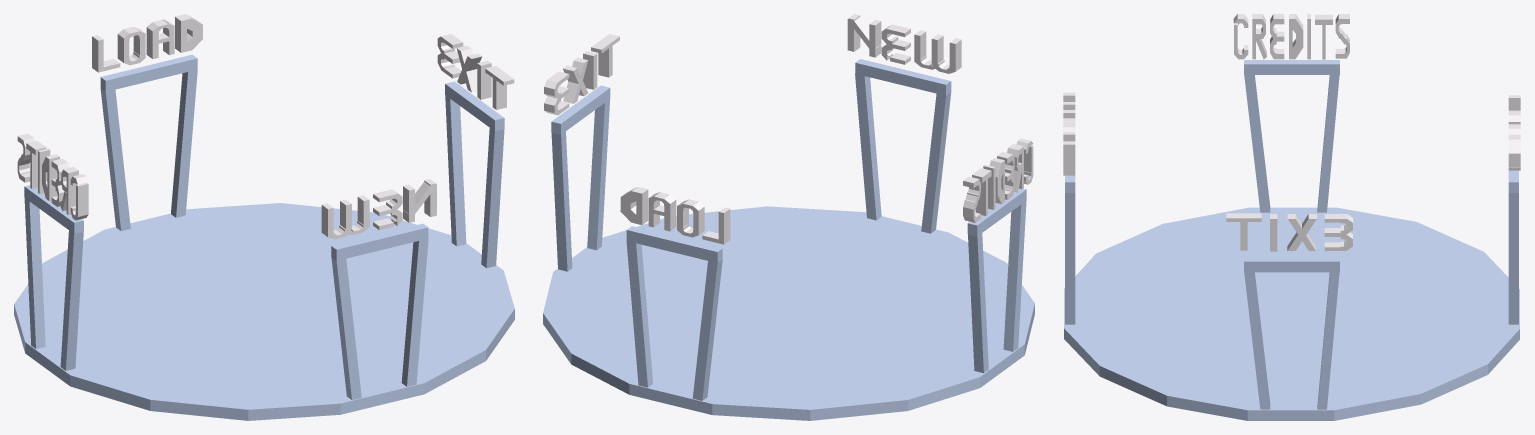
Rendered from MenuObj.glb.
3 renders of one model, left to right at view 1: azimuth 30°, elevation 25°; view 2: azimuth 150°, elevation 25°; view 3: azimuth 270°, elevation 25°, orthographic. The views are drawn at different scales.
Visible parts, largest first — view 1: MenuObj; view 2: MenuObj; view 3: MenuObj.
Boxes of the visible parts, <box> form: MenuObj: <box>14,14,514,420</box>; MenuObj: <box>543,14,1034,420</box>; MenuObj: <box>1063,14,1520,420</box>.
Size of the model in its own units: 406 by 190 by 386.
2 materials, 2 textured.
